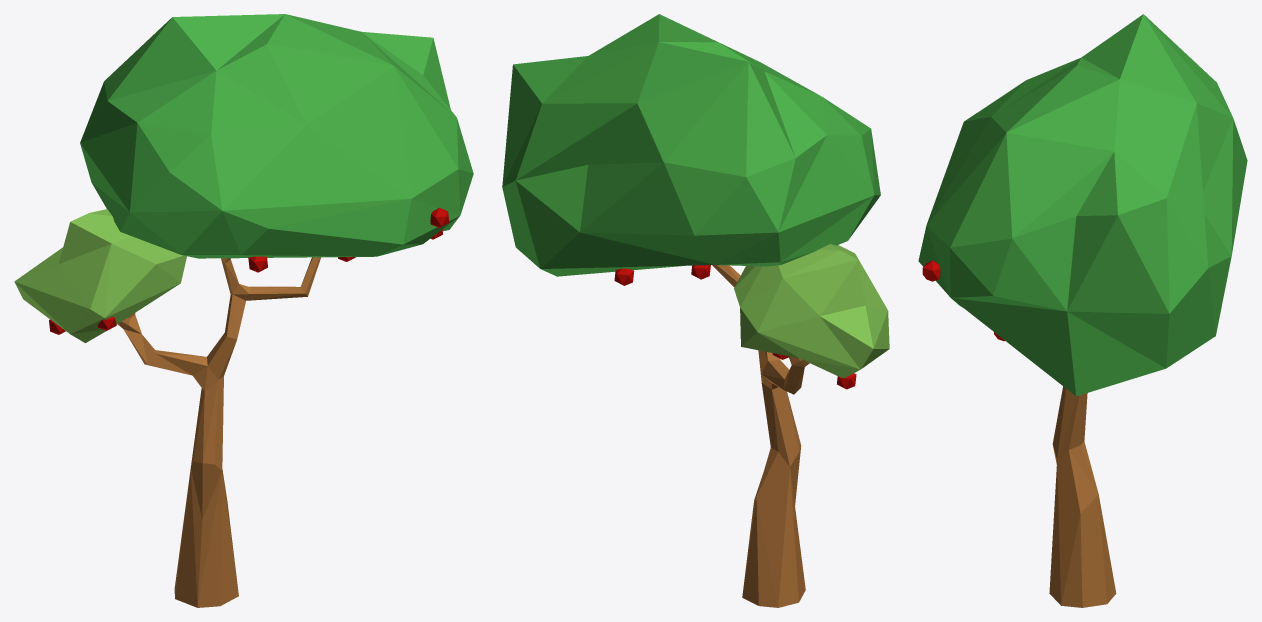
File: tree_05.glb
3 renders of one model, left to right at view 1: azimuth 30°, elevation 25°; view 2: azimuth 150°, elevation 25°; view 3: azimuth 270°, elevation 25°, orthographic. The views are drawn at different scales.
Parts seen in each view (by area): view 1: Lowpoly_Tree_05_Material.002_0, Lowpoly_Tree_05_Material_0, Lowpoly_Tree_05_Material.001_0, Lowpoly_Tree_05_Material.003_0; view 2: Lowpoly_Tree_05_Material.002_0, Lowpoly_Tree_05_Material.001_0, Lowpoly_Tree_05_Material_0, Lowpoly_Tree_05_Material.003_0; view 3: Lowpoly_Tree_05_Material.002_0, Lowpoly_Tree_05_Material_0.
Part boxes in pixels (x1,y1,x2,y2): Lowpoly_Tree_05_Material.002_0: [80, 14, 473, 258]; Lowpoly_Tree_05_Material_0: [117, 257, 320, 607]; Lowpoly_Tree_05_Material.001_0: [14, 209, 186, 342]; Lowpoly_Tree_05_Material.003_0: [49, 208, 449, 334]; Lowpoly_Tree_05_Material.002_0: [502, 14, 880, 276]; Lowpoly_Tree_05_Material.001_0: [734, 244, 889, 378]; Lowpoly_Tree_05_Material_0: [712, 265, 809, 607]; Lowpoly_Tree_05_Material.003_0: [614, 265, 856, 389]; Lowpoly_Tree_05_Material.002_0: [918, 14, 1247, 396]; Lowpoly_Tree_05_Material_0: [1049, 386, 1116, 607].
Size of the model in its own units: 1.27 by 1.73 by 0.8909.
